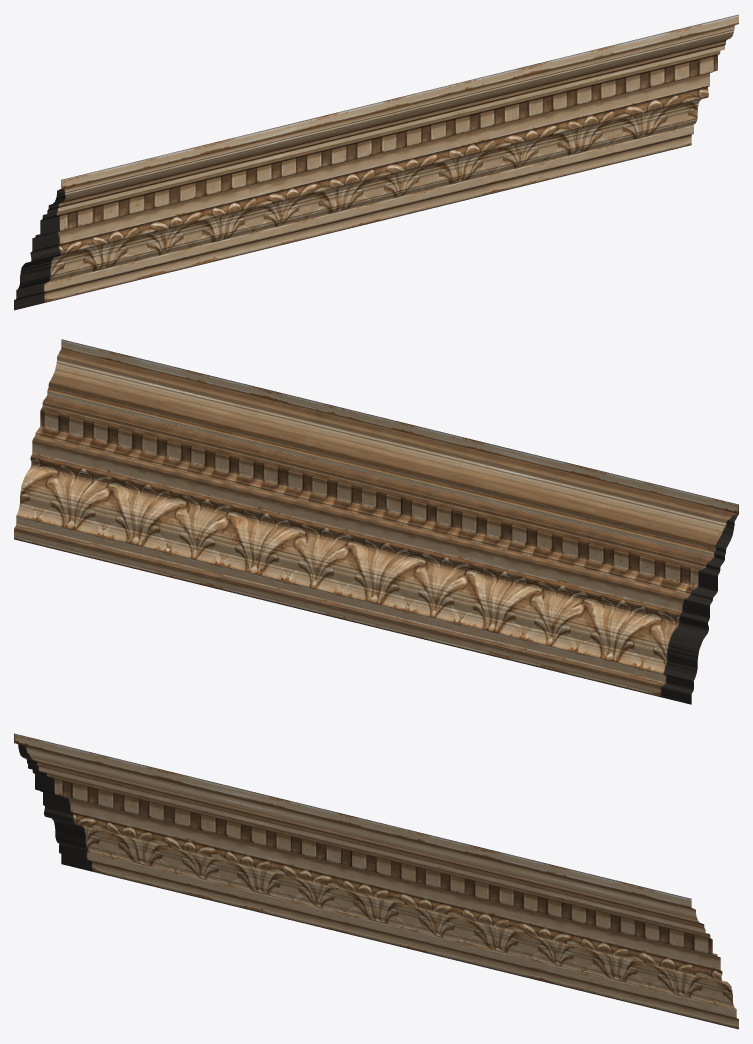
The model's file is bench_b_crown.glb.
3 renders of one model, top to bottom at view 1: azimuth 30°, elevation 25°; view 2: azimuth 150°, elevation 25°; view 3: azimuth 330°, elevation 25°, orthographic.
Visible parts, largest first — view 1: bench_b_crown_face; view 2: bench_b_crown_face; view 3: bench_b_crown_face.
Part boxes in pixels (<box>): bench_b_crown_face: <box>14,14,738,310</box>; bench_b_crown_face: <box>14,339,738,704</box>; bench_b_crown_face: <box>14,733,738,1029</box>.
Bounding box in the file's own units: 1.2 × 0.28 × 0.1456.
1 material, 1 textured.
